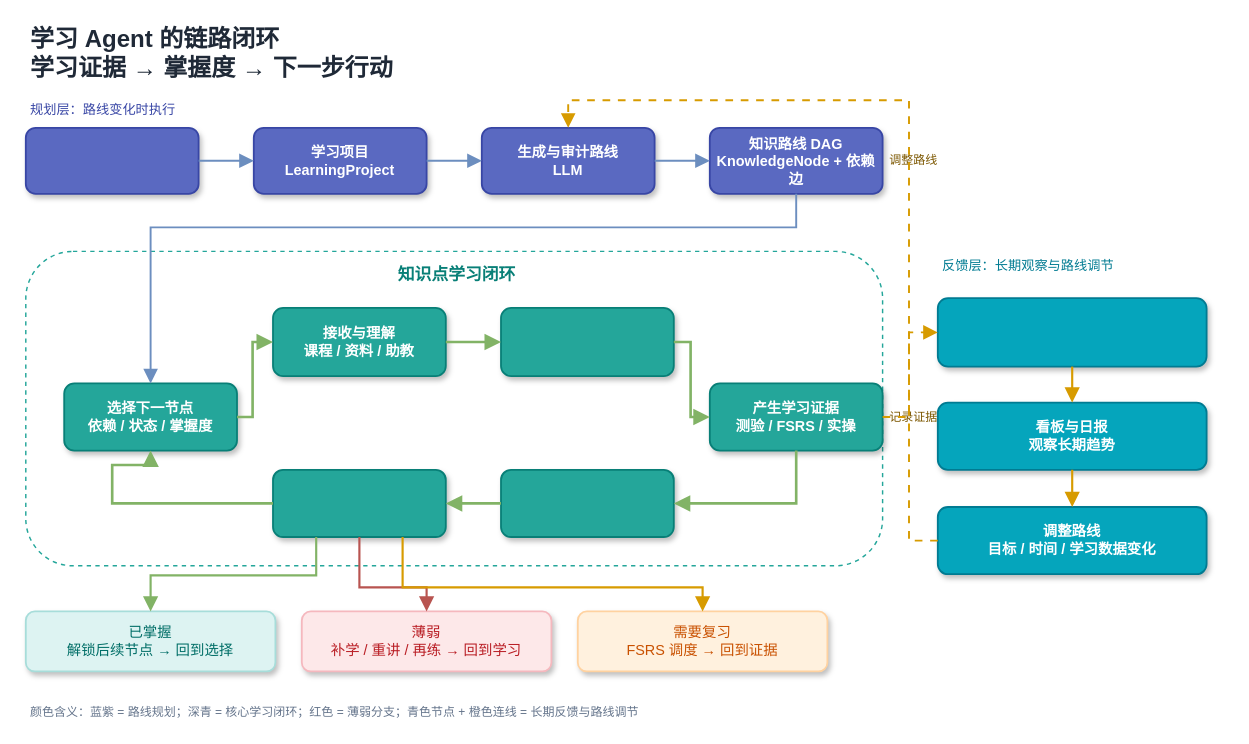
This 1249x744 diagram has some shape labels left out. Each missing label, with the centre of its shape:
主动加工 练习 / 笔记 / 费曼: the point at 588,343
决定下一动作 继续 / 补学 / 复习: the point at 360,505
学习数据 ProgressRecord / ReviewLog / QuizAttempt: the point at 1073,333
学习目标 主题 / 背景 / 时间: the point at 113,162
评估掌握度 quiz + memory + status: the point at 588,505
